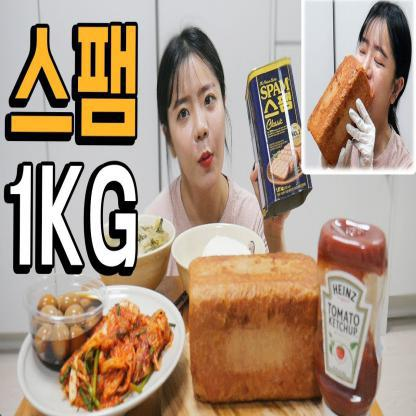spam: (249, 72, 303, 202)
